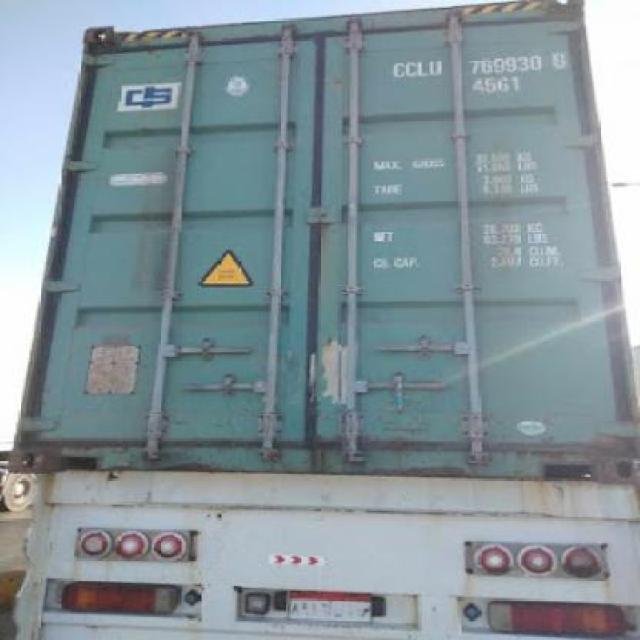ISO: (473, 76, 530, 94)
container_number: (393, 54, 566, 80)
